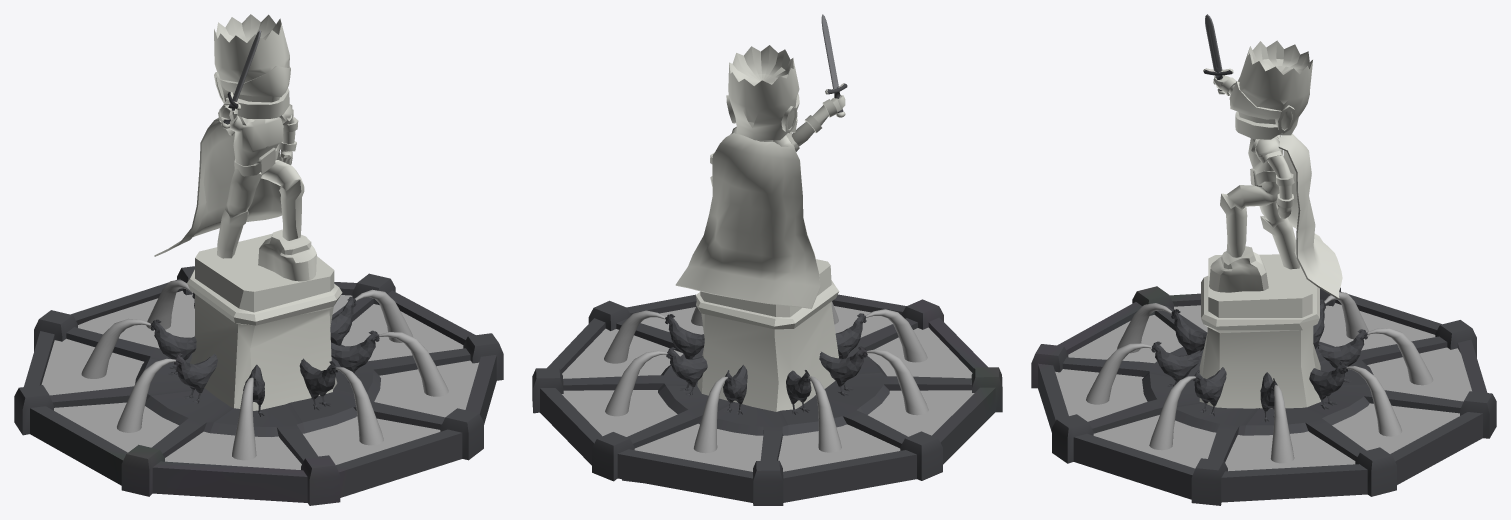
Rendered from Hero asset test 02.fbx.
3 renders of one model, left to right at view 1: azimuth 30°, elevation 25°; view 2: azimuth 150°, elevation 25°; view 3: azimuth 270°, elevation 25°, orthographic. The views are drawn at different scales.
Visible parts, largest first — view 1: SM_Base, SM_Statua, Water, Cascata, SM_Hen; view 2: SM_Statua, SM_Base, Water, Cascata, SM_Hen; view 3: SM_Base, SM_Statua, Water, Cascata, SM_Hen.
Boxes of the visible parts, x1,y1,x2,y2 form: SM_Base: [14, 266, 503, 505]; SM_Statua: [154, 14, 342, 410]; Water: [41, 291, 478, 469]; Cascata: [81, 280, 448, 460]; SM_Hen: [150, 292, 379, 416]; SM_Statua: [675, 14, 847, 411]; SM_Base: [532, 294, 1002, 505]; Water: [562, 306, 974, 471]; Cascata: [604, 301, 928, 453]; SM_Hen: [665, 313, 867, 414]; SM_Base: [1031, 286, 1496, 505]; SM_Statua: [1199, 14, 1342, 408]; Water: [1055, 303, 1471, 471]; Cascata: [1086, 292, 1433, 463]; SM_Hen: [1151, 300, 1367, 422].
Bounding box in the file's own units: 494 × 448 × 495.
2 materials, 1 textured.
